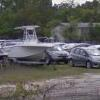Boat: (0, 21, 69, 74)
